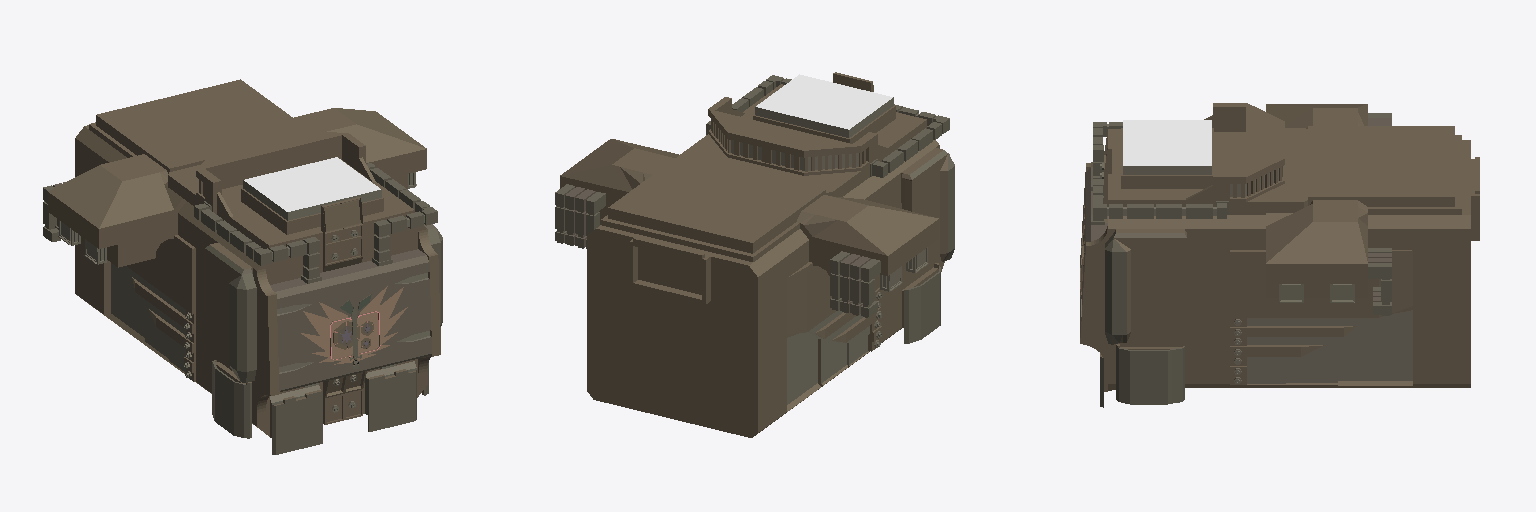
The model's file is t45body.obj.
3 views of the same model, side by side, from view 1: azimuth 30°, elevation 25°; view 2: azimuth 150°, elevation 25°; view 3: azimuth 270°, elevation 25° (orthographic).
Parts seen in each view (by area): view 1: Mesh1 Model; view 2: Mesh1 Model; view 3: Mesh1 Model.
Part boxes in pixels (x1,y1,x2,y2): Mesh1 Model: (43, 79, 442, 454); Mesh1 Model: (555, 72, 954, 437); Mesh1 Model: (1080, 103, 1479, 407).
Size of the model in its own units: 1.92 by 1.3 by 2.03.